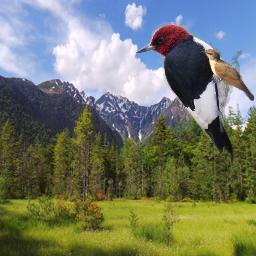Cuckoo: (201, 49, 254, 101)
Woodpecker: (130, 22, 242, 163)
